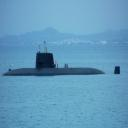submarine: (4, 50, 128, 78)
